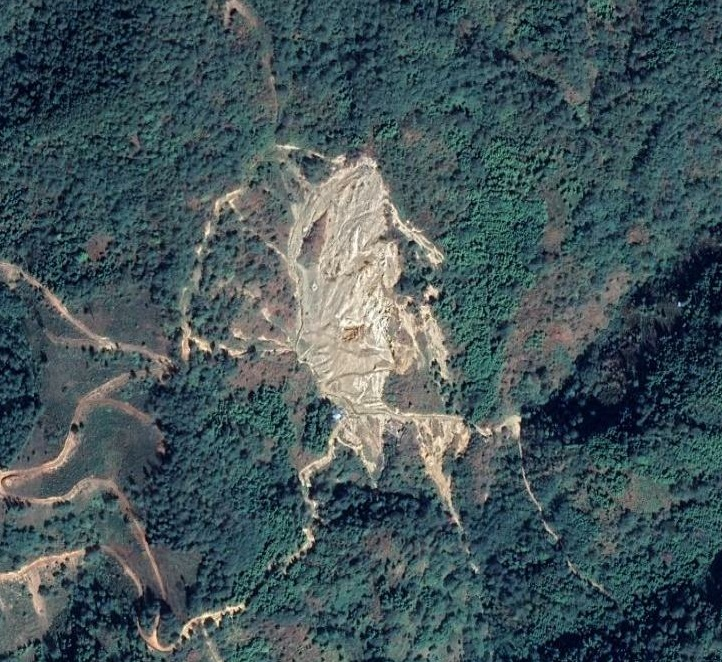slope: (265, 148, 459, 485), (416, 408, 474, 526)
